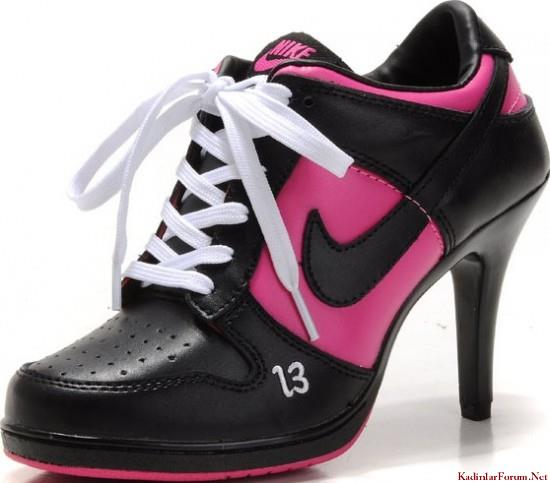nike: (297, 85, 500, 309)
